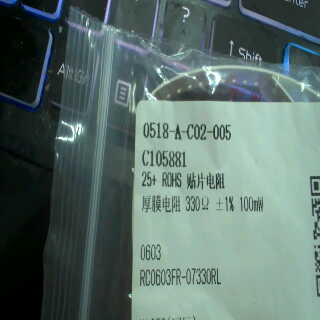330R: (185, 193, 215, 214)
